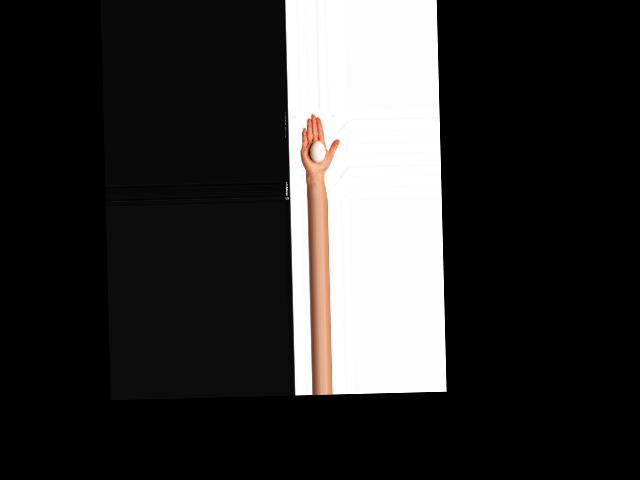egg: (310, 140, 325, 162)
